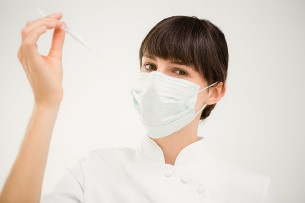Mask: (127, 51, 211, 136)
